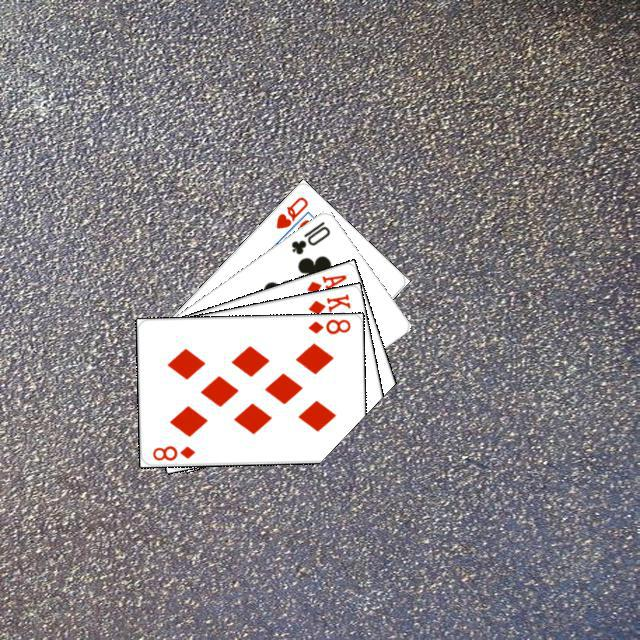10c: (286, 216, 332, 256)
8d: (148, 440, 196, 462), (303, 315, 352, 336)
Ad: (302, 269, 349, 295)
Kd: (303, 289, 352, 316)
Qh: (271, 191, 310, 231)
